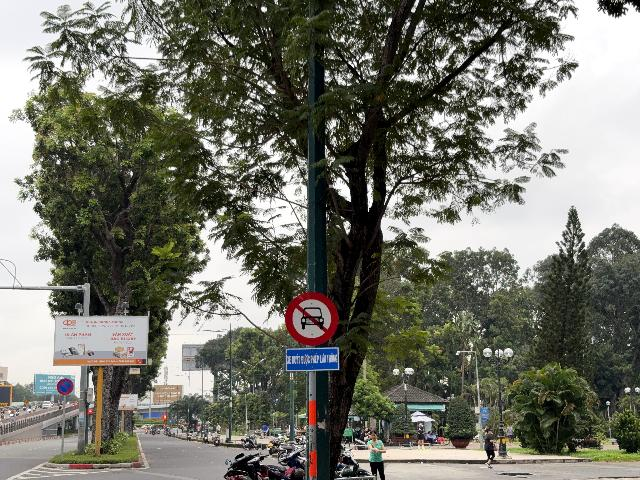cam-o-to: (285, 292, 338, 346)
